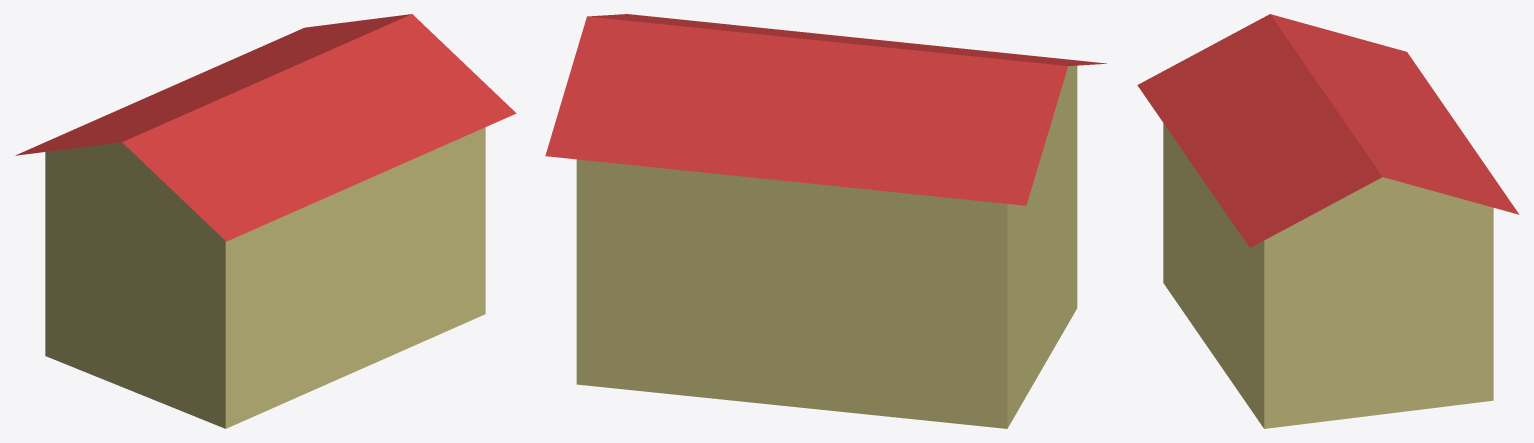
The picture shows the model from 3 angles, left to right: view 1: azimuth 30°, elevation 25°; view 2: azimuth 150°, elevation 25°; view 3: azimuth 270°, elevation 25°; orthographic projection. The views are drawn at different scales.
Size of the model in its own units: 11.05 by 9.1 by 6.47.
